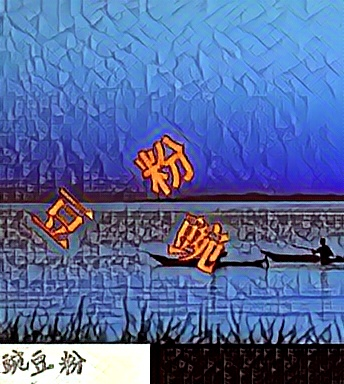B6B9: (30, 183, 93, 249)
B7DB: (133, 131, 196, 197)
CDE3: (165, 209, 228, 275)
